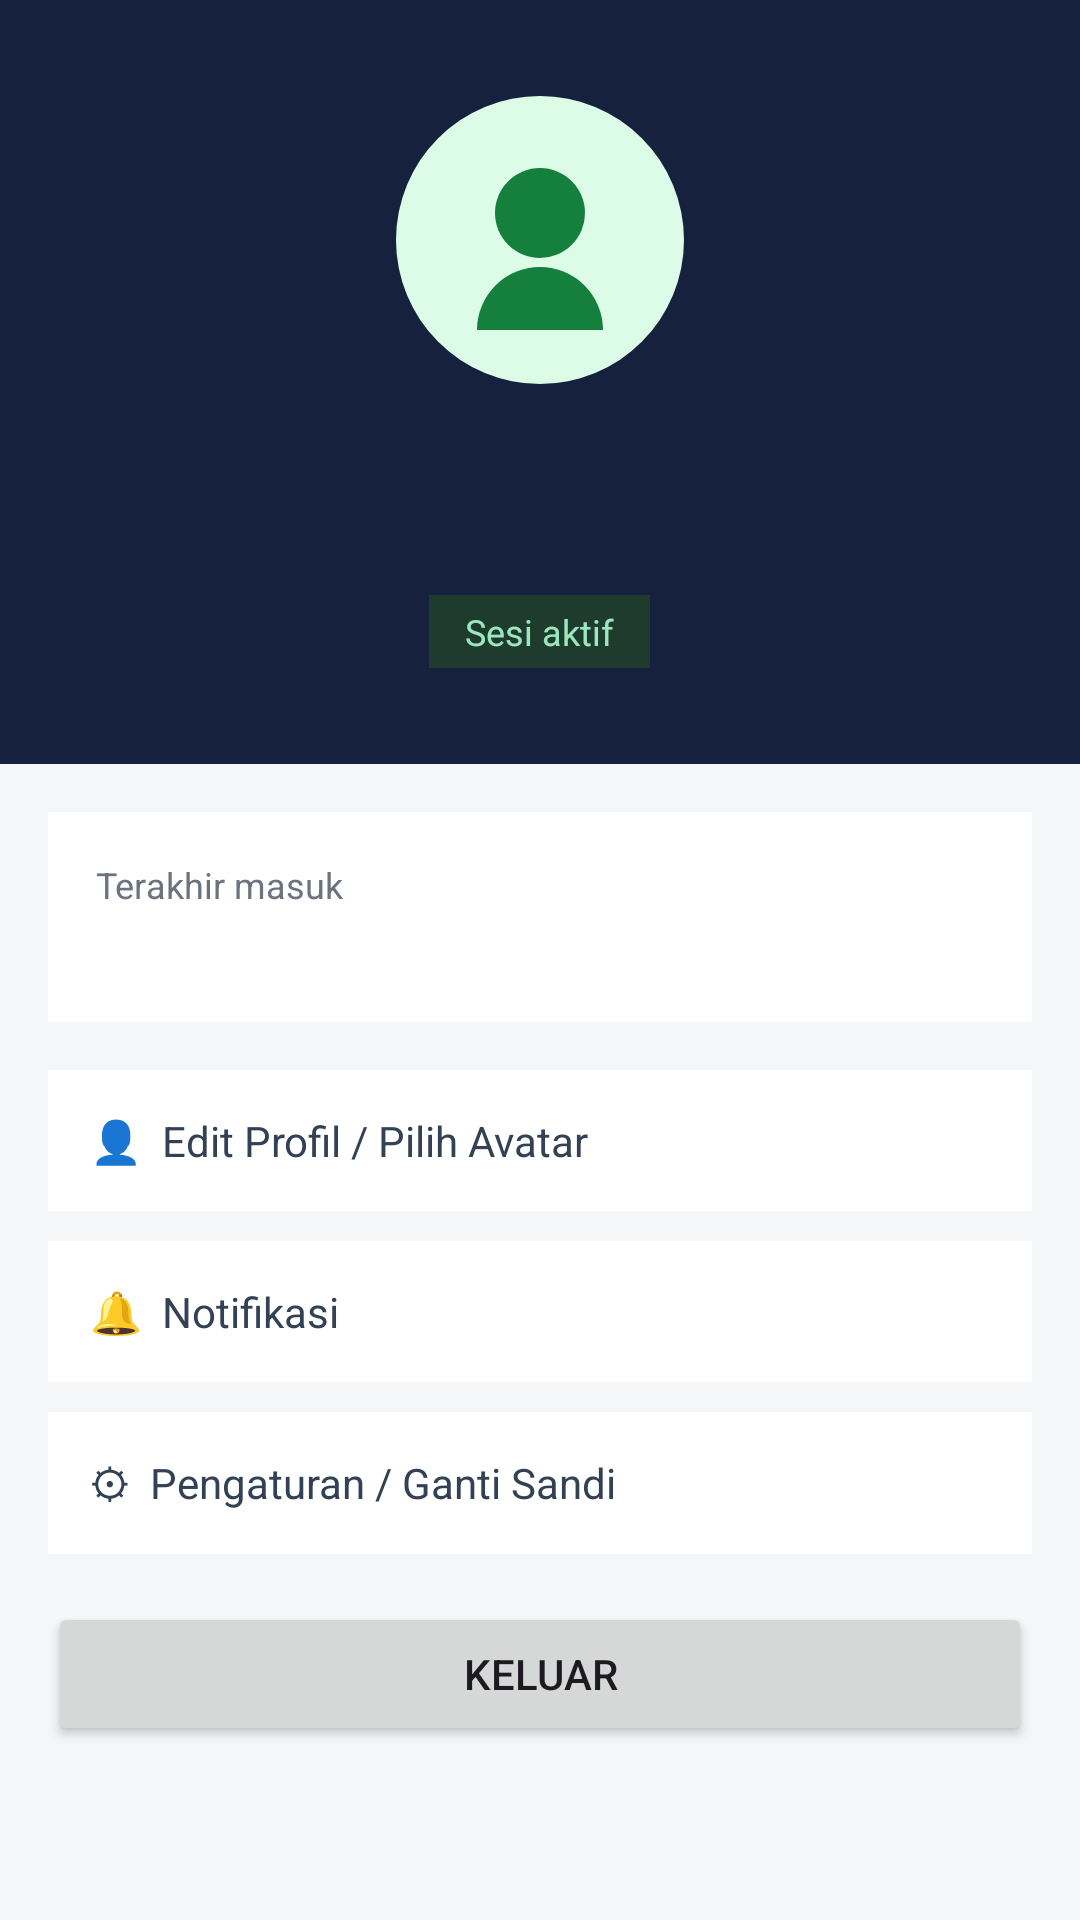

Where icons sit on this 1080w x 1920h app screen, as (x1, y1, x2, y2):
Foto profil pengguna: (396, 96, 684, 384)
